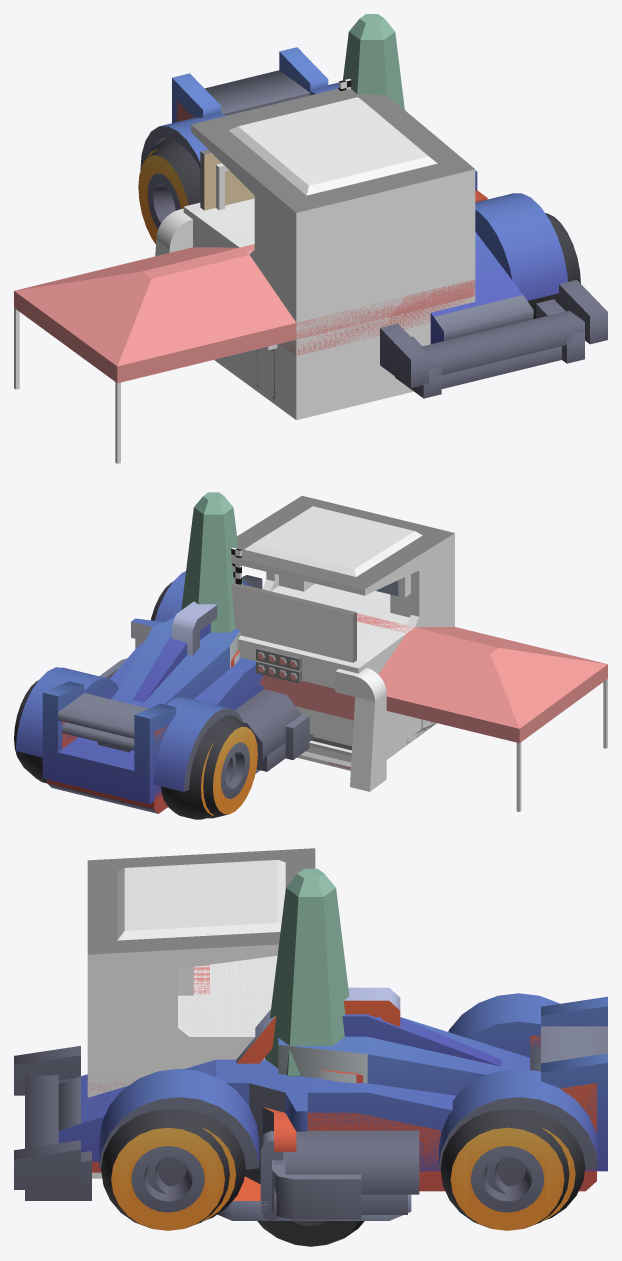
File: racer-kit.glb
3 views of the same model, one above another, from view 1: azimuth 30°, elevation 25°; view 2: azimuth 150°, elevation 25°; view 3: azimuth 270°, elevation 25° (orthographic). The views are drawn at different scales.
Parts seen in each view (by area): view 1: grandStandCovered, body (×2), tentLong, grandStand, pitsGarage, pitsOffice, wheel-back-right, treeLarge, pitsGarageCorner, billboard, tent, overheadLights (+1 smaller); view 2: body (×2), grandStandCovered, tentLong, billboard, wheel-back-right (×2), pitsGarage, overheadLights, treeLarge, pitsOffice, pitsGarageCorner, debris-door, billboardLow (+4 smaller); view 3: body (×2), grandStandCovered, wheel-front-left (×2), wheel-back-left (×2), treeLarge, pitsGarage, debris-bumper, pitsGarageCorner, debris-door, debris-tire, debris-plate-a, grandStand.
Part boxes in pixels (x1,y1,x2,y2): grandStandCovered: (191,88,475,419); body (×2): (140,47,607,398); tentLong: (14,244,473,463); grandStand: (254,209,475,419); pitsGarage: (183,202,475,419); pitsOffice: (215,281,475,418); wheel-back-right: (138,141,200,244); treeLarge: (343,14,404,109); pitsGarageCorner: (193,198,296,412); billboard: (200,149,254,210); tent: (296,279,475,419); overheadLights: (155,208,192,256); body (×2): (15,571,301,813); grandStandCovered: (231,495,454,770); tentLong: (357,613,607,811); billboard: (231,583,356,688); wheel-back-right (×2): (161,715,257,819); pitsGarage: (238,583,454,770); overheadLights: (256,646,386,791); treeLarge: (181,492,242,632); pitsOffice: (263,675,433,768); pitsGarageCorner: (273,584,454,747); debris-door: (171,601,217,655); billboardLow: (296,706,353,743); body (×2): (14,993,607,1214); grandStandCovered: (87,848,315,1178); wheel-front-left (×2): (101,1109,245,1230); wheel-back-left (×2): (440,1109,585,1230); treeLarge: (265,868,349,1076); pitsGarage: (87,956,277,1178); debris-bumper: (260,1131,361,1220); pitsGarageCorner: (90,955,277,1071); debris-door: (236,987,400,1063); debris-tire: (257,1221,364,1246); debris-plate-a: (217,1176,411,1220); grandStand: (87,998,177,1096).
Bounding box in the file's own units: 2.65 × 1.81 × 2.66.
12 materials, 3 textured.
